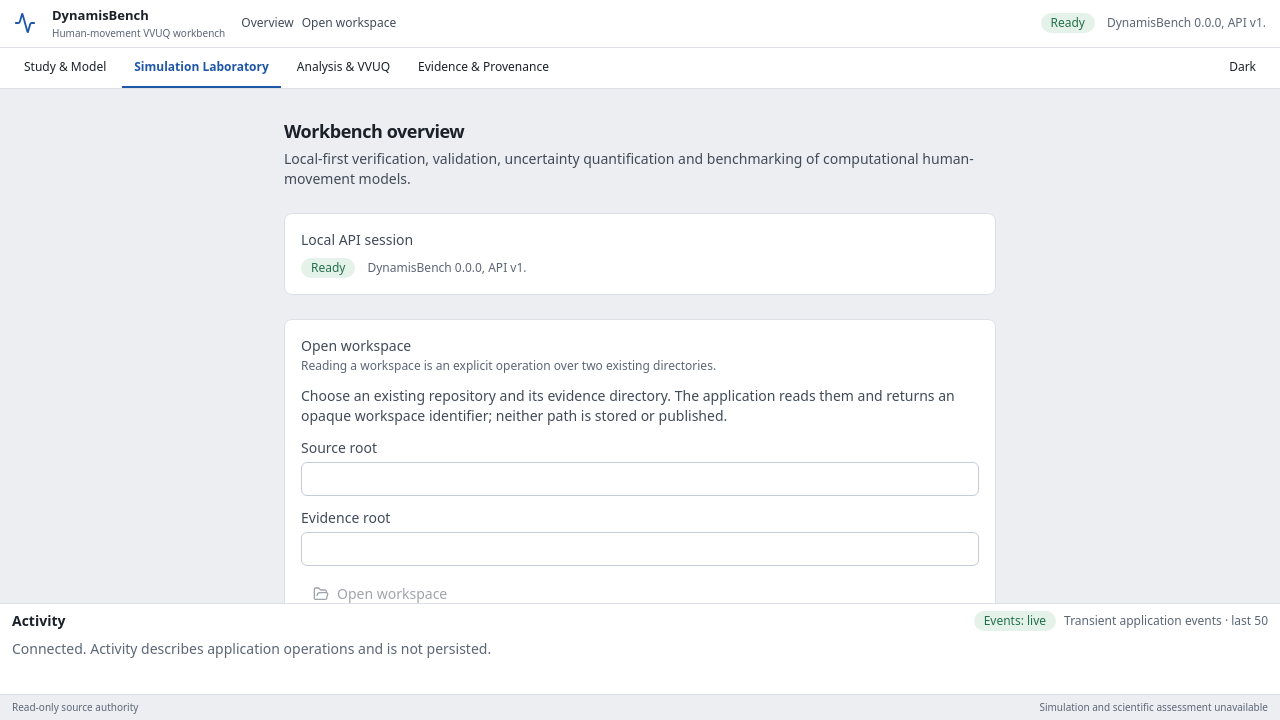
it: the Activity panel across navigation › shows the first workspace-open event after the landing form navigates
The width and height of the screenshot is (1280, 720).
Expected: the text "Events: live" is shown, [974, 611, 1056, 631]
Type "C:\\research\\source" into the field labelled "Source root" at (640, 478), box [301, 462, 979, 496]
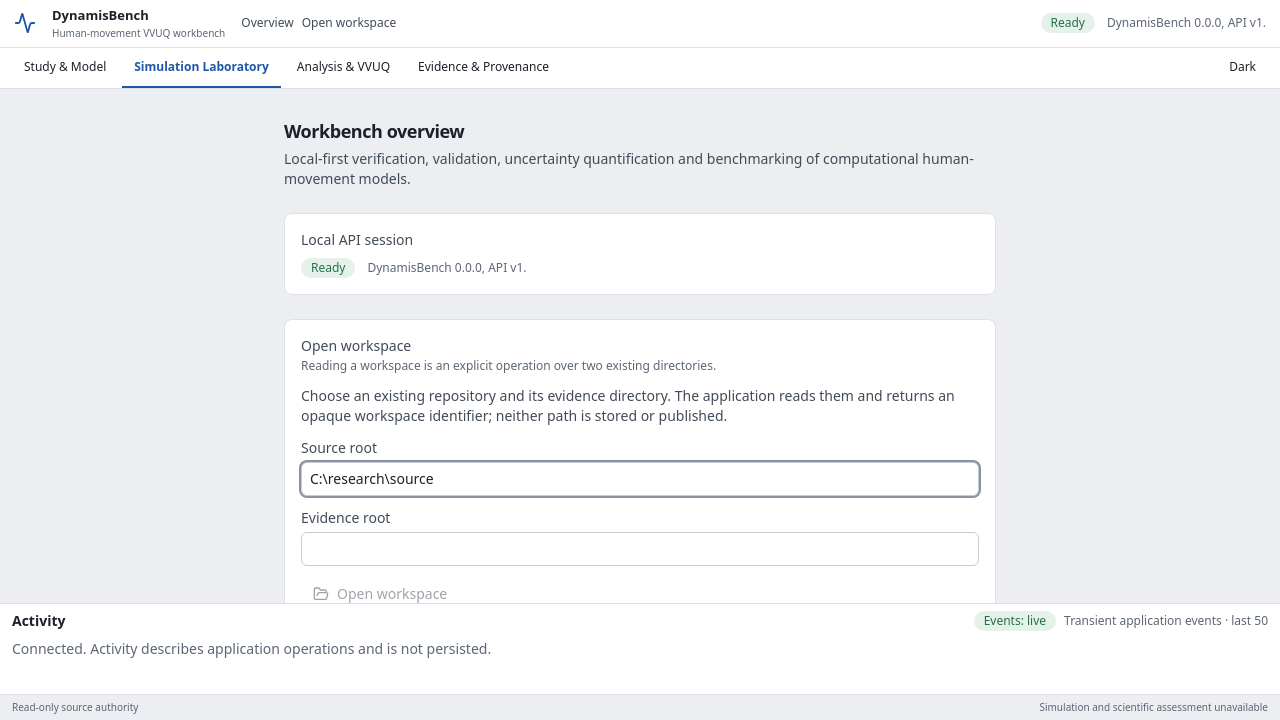
Type "C:\\research\\evidence" into the field labelled "Evidence root" at (640, 548), box [301, 532, 979, 566]
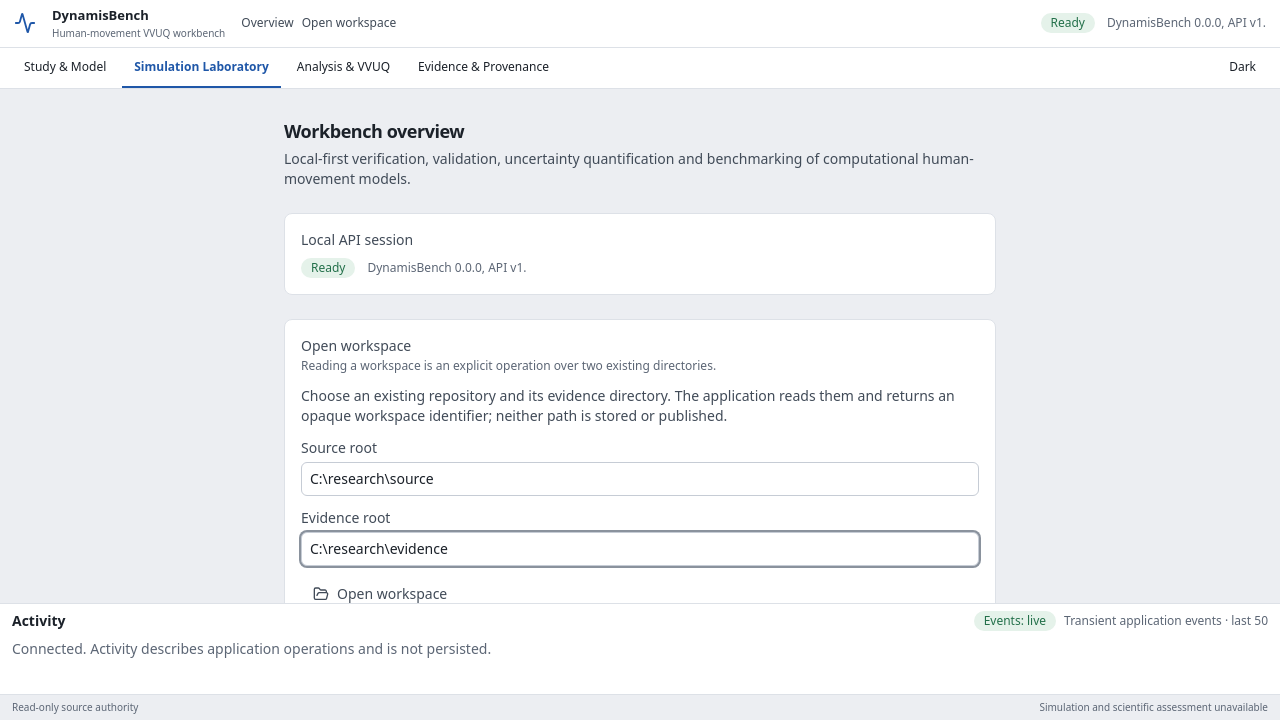
Click the button "Open workspace" at (380, 594), box [301, 578, 459, 610]
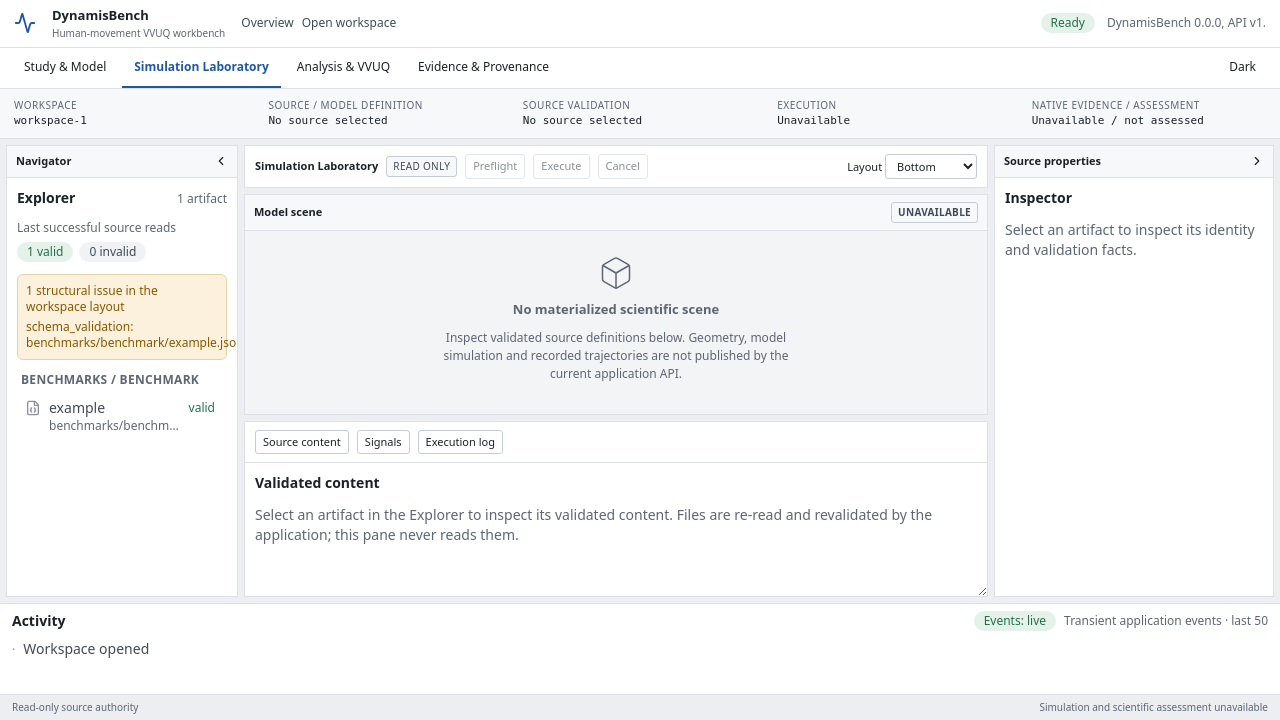
Expected: the text "Workspace opened" is shown, [23, 639, 149, 659]
